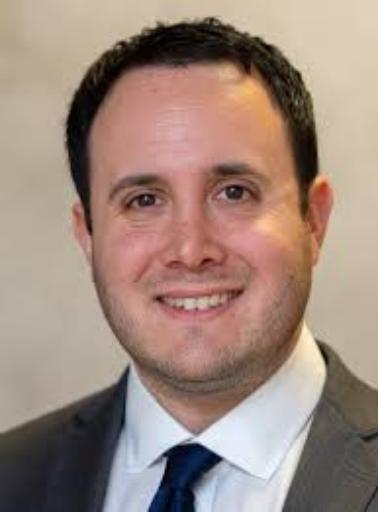left_eye: (215, 183, 261, 209)
left_lip_corner: (234, 281, 252, 303)
right_eye: (123, 191, 169, 214)
right_lip_corner: (149, 292, 166, 313)
